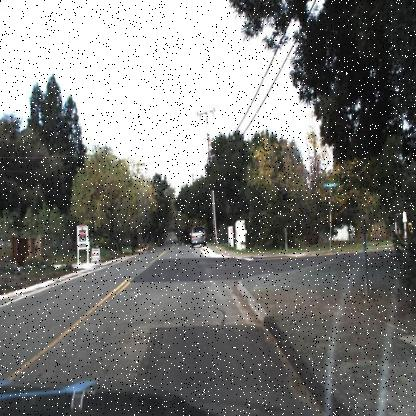car: (187, 220, 205, 246)
